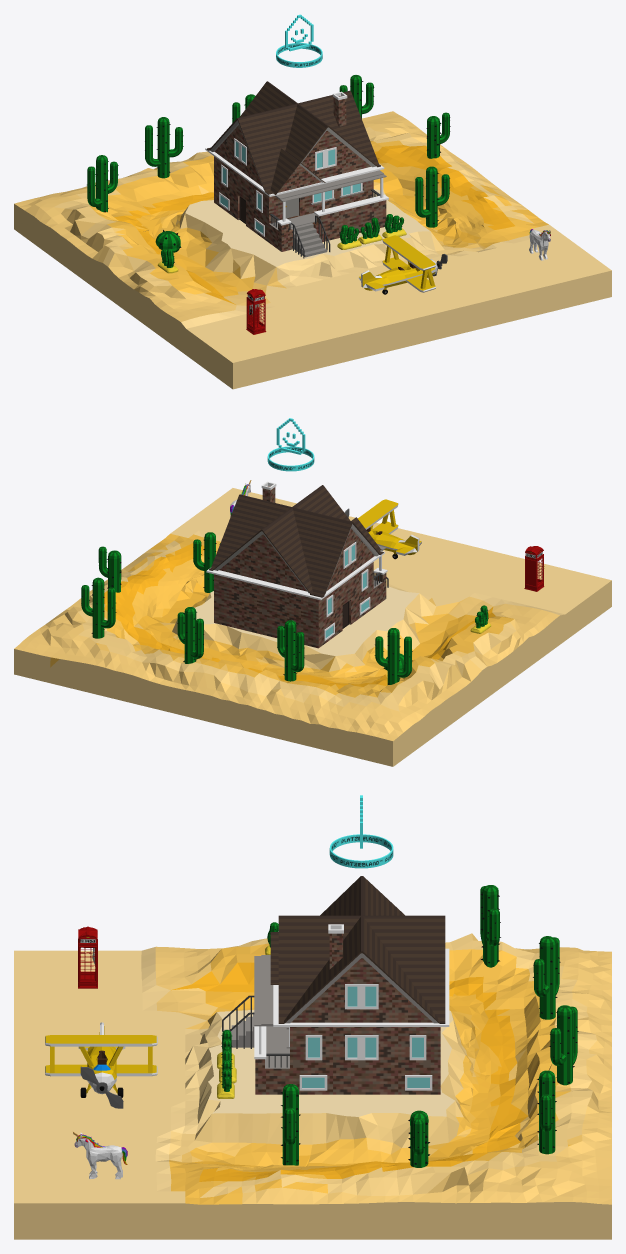
The picture shows the model from 3 angles, top to bottom: view 1: azimuth 30°, elevation 25°; view 2: azimuth 150°, elevation 25°; view 3: azimuth 270°, elevation 25°; orthographic projection. The views are drawn at different scales.
Visible parts, largest first — view 1: Cube.001, Cube.117, VEHICLES_AIRPLANE, Cylinder.044, Cylinder.037, Cylinder.045, TYPE_PREMIUM, OBJRANDOM_PHONEBOOTH, Cylinder.038, Cylinder.042, ANIMAL_UNICORNIO; view 2: Cube.001, Cube.117, VEHICLES_AIRPLANE, Cylinder.042, Cylinder.045, Cylinder.044, Cylinder.043, TYPE_PREMIUM, Cylinder.037, OBJRANDOM_PHONEBOOTH, Cylinder.038; view 3: Cube.001, Cube.117, VEHICLES_AIRPLANE, Cylinder.044, Cylinder.043, Cylinder.045, Cylinder.042, Cylinder.037, TYPE_PREMIUM, ANIMAL_UNICORNIO, OBJRANDOM_PHONEBOOTH, Cylinder.038.
Part boxes in pixels (x1,y1,x2,y2): Cube.001: (14, 111, 611, 389); Cube.117: (205, 81, 388, 258); VEHICLES_AIRPLANE: (358, 235, 447, 294); Cylinder.044: (145, 117, 183, 178); Cylinder.037: (415, 166, 449, 227); Cylinder.045: (87, 155, 118, 212); TYPE_PREMIUM: (276, 14, 322, 67); OBJRANDOM_PHONEBOOTH: (246, 289, 266, 334); Cylinder.038: (426, 112, 450, 158); Cylinder.042: (339, 75, 374, 118); ANIMAL_UNICORNIO: (529, 229, 550, 260); Cube.001: (14, 488, 611, 766); Cube.117: (206, 481, 388, 648); VEHICLES_AIRPLANE: (344, 499, 421, 559); Cylinder.042: (81, 577, 116, 638); Cylinder.045: (374, 628, 412, 684); Cylinder.044: (277, 620, 304, 681); Cylinder.043: (177, 607, 203, 663); TYPE_PREMIUM: (267, 418, 314, 471); Cylinder.037: (193, 532, 220, 592); OBJRANDOM_PHONEBOOTH: (524, 546, 544, 591); Cylinder.038: (98, 546, 121, 592); Cube.001: (14, 933, 611, 1239); Cube.117: (222, 876, 449, 1094); VEHICLES_AIRPLANE: (45, 1022, 157, 1108); Cylinder.044: (533, 936, 560, 1019); Cylinder.043: (549, 1005, 578, 1085); Cylinder.045: (480, 885, 500, 967); Cylinder.042: (537, 1070, 556, 1154); Cylinder.037: (281, 1084, 300, 1165); TYPE_PREMIUM: (329, 795, 393, 868); ANIMAL_UNICORNIO: (73, 1132, 127, 1179); OBJRANDOM_PHONEBOOTH: (78, 926, 97, 988); Cylinder.038: (408, 1110, 429, 1167).
Size of the model in its own units: 4002 by 2437 by 4001.
51 materials, 4 textured.
